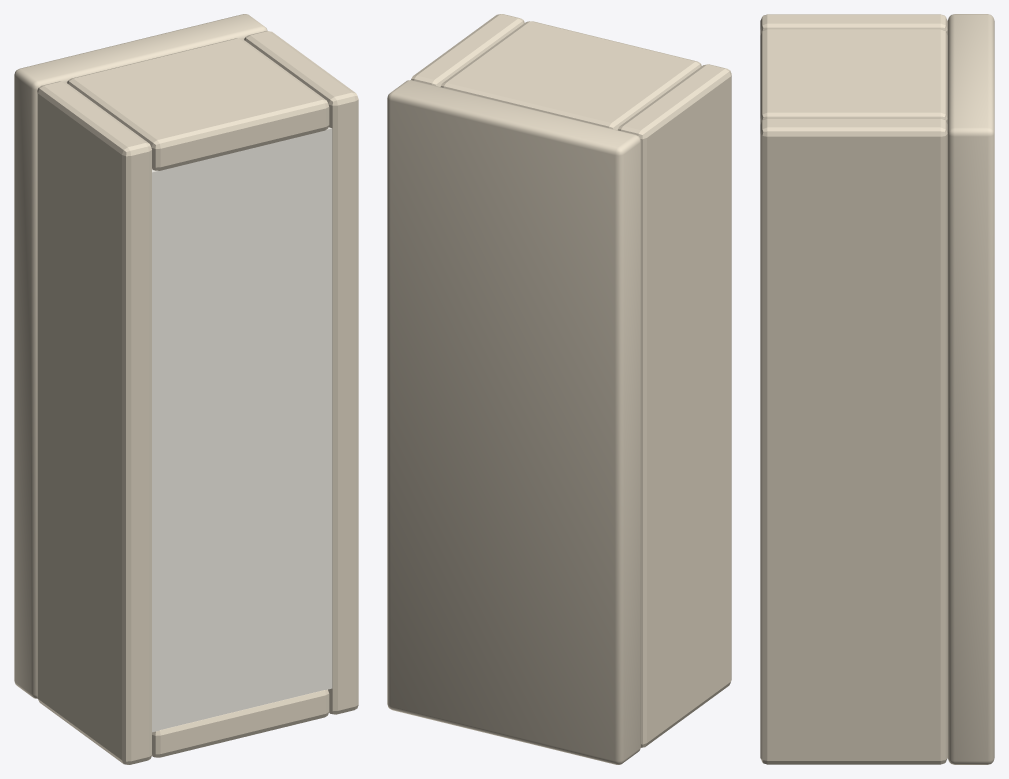
Rendered from sg_wall_light.glb.
3 views of the same model, side by side, from view 1: azimuth 30°, elevation 25°; view 2: azimuth 150°, elevation 25°; view 3: azimuth 270°, elevation 25° (orthographic). The views are drawn at different scales.
Parts seen in each view (by area): view 1: frame, paper, back; view 2: back, frame; view 3: frame, back.
Part boxes in pixels (left/top/right/bottom): frame: left=37, top=31, right=358, bottom=764; paper: left=152, top=127, right=332, bottom=732; back: left=14, top=14, right=267, bottom=698; back: left=387, top=80, right=640, bottom=764; frame: left=411, top=14, right=731, bottom=747; frame: left=760, top=14, right=947, bottom=764; back: left=947, top=14, right=994, bottom=764.
Size of the model in its own units: 0.12 by 0.3 by 0.1.
